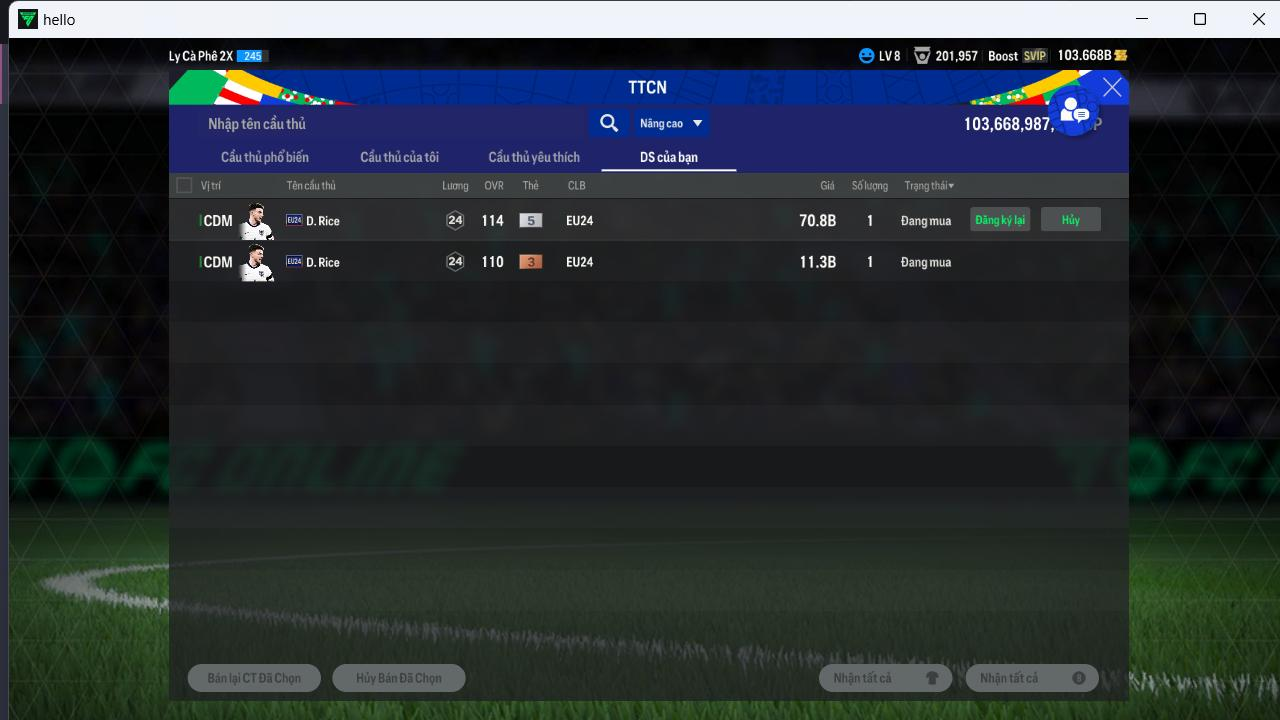previous: (785, 205, 844, 234)
